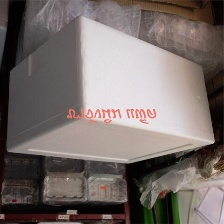foam_box: (2, 13, 217, 166)
